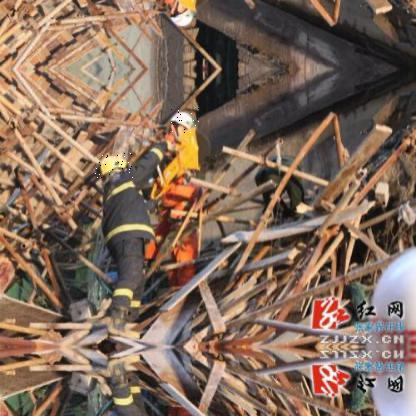safetyhelmet: (95, 154, 134, 180), (171, 108, 200, 134)
